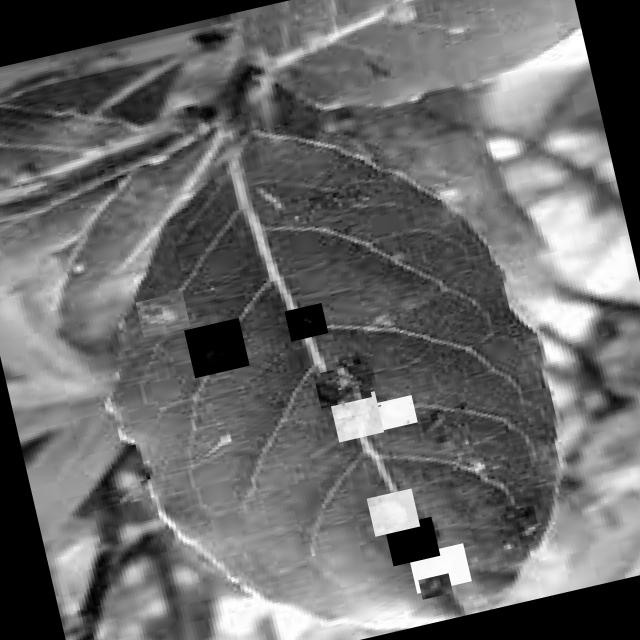scale_insect: (184, 316, 250, 376), (408, 542, 471, 592), (329, 390, 384, 441), (384, 515, 440, 565), (313, 361, 372, 407), (366, 487, 420, 535), (135, 290, 190, 336), (284, 301, 328, 340), (373, 394, 417, 429), (418, 572, 452, 598)
